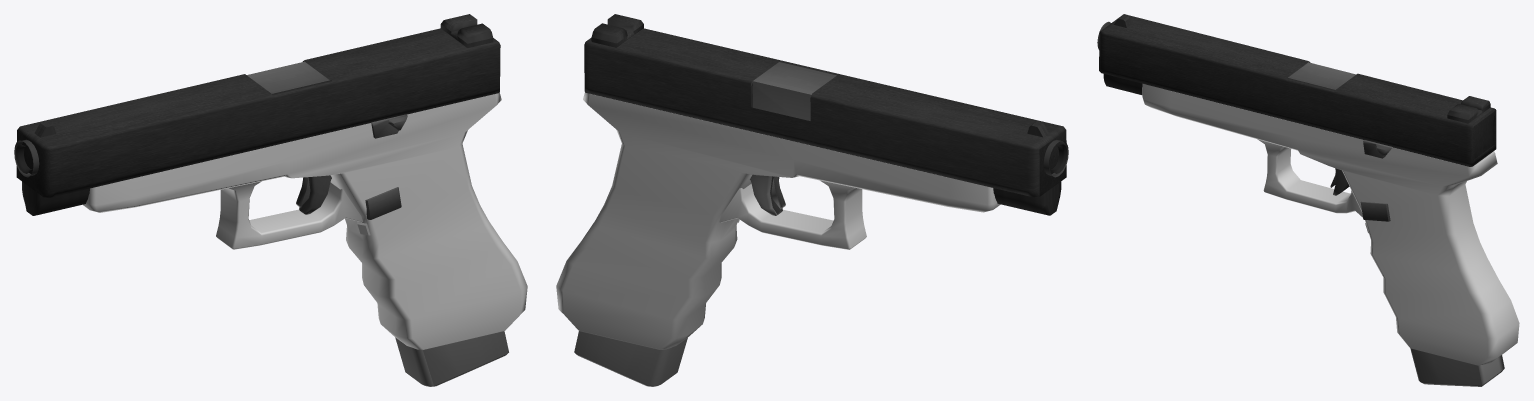
Rendered from pistol_fbx.fbx.
3 views of the same model, side by side, from view 1: azimuth 30°, elevation 25°; view 2: azimuth 150°, elevation 25°; view 3: azimuth 330°, elevation 25° (orthographic). The views are drawn at different scales.
Visible parts, largest first — view 1: polySurface5, polySurface6; view 2: polySurface5, polySurface6; view 3: polySurface5, polySurface6.
Part boxes in pixels (left/top/right/bottom): polySurface5: left=14, top=14, right=527, bottom=349; polySurface6: left=395, top=331, right=508, bottom=386; polySurface5: left=556, top=14, right=1068, bottom=349; polySurface6: left=574, top=330, right=687, bottom=386; polySurface5: left=1097, top=14, right=1519, bottom=365; polySurface6: left=1410, top=348, right=1504, bottom=386.
Bounding box in the file's own units: 11.72 × 7.9 × 1.49.
